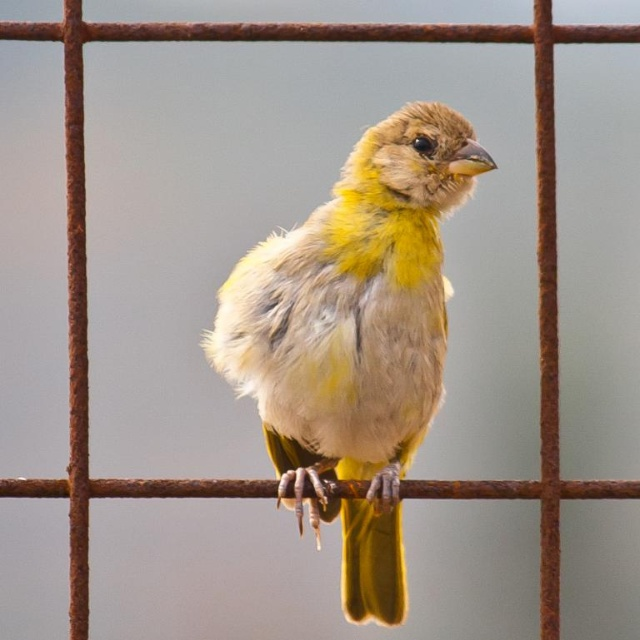Canary: (197, 101, 499, 627)
